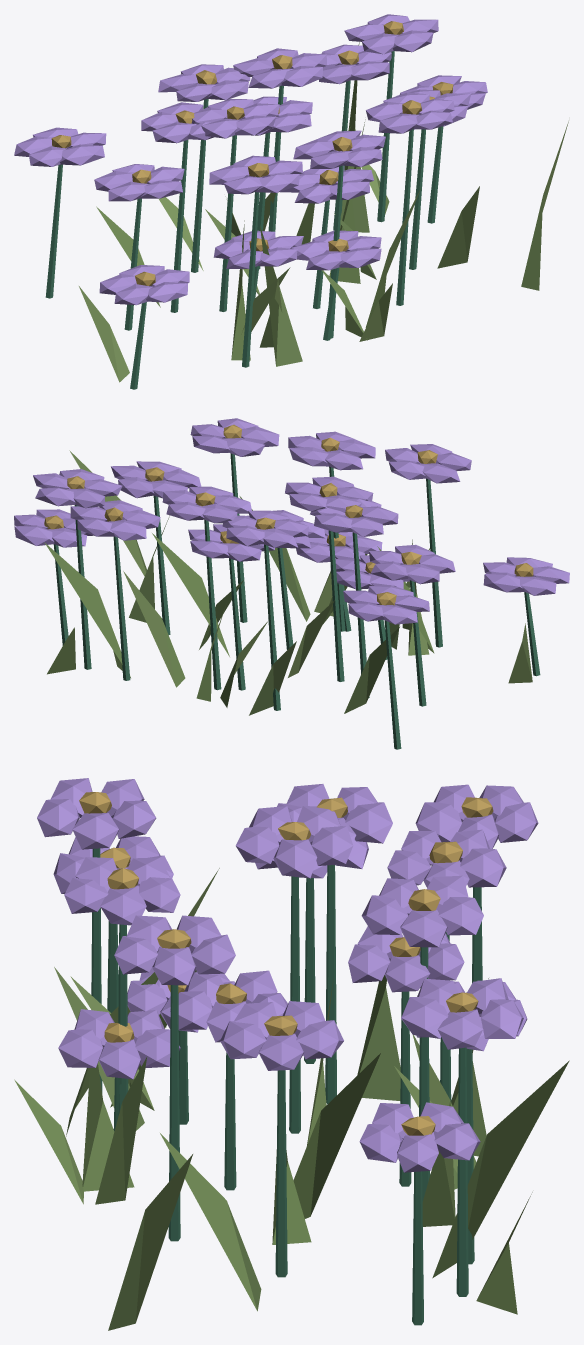
The model's file is flower_patch_b.glb.
The picture shows the model from 3 angles, top to bottom: view 1: azimuth 30°, elevation 25°; view 2: azimuth 150°, elevation 25°; view 3: azimuth 270°, elevation 25°; orthographic projection. The views are drawn at different scales.
Parts seen in each view (by area): view 1: flower_patch_b; view 2: flower_patch_b; view 3: flower_patch_b.
Part boxes in pixels (box(x1,y1,x2,y2)): flower_patch_b: box(14, 14, 568, 389); flower_patch_b: box(14, 418, 569, 749); flower_patch_b: box(14, 778, 569, 1330).
Size of the model in its own units: 1.7 by 0.6719 by 1.06.
